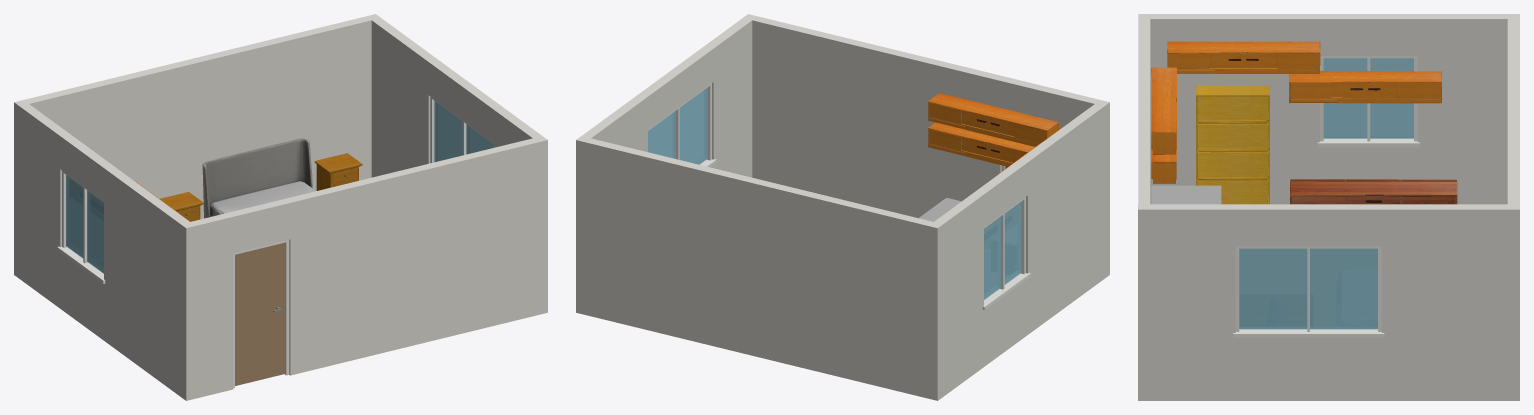
The model's file is holodeck.glb.
The picture shows the model from 3 angles, left to right: view 1: azimuth 30°, elevation 25°; view 2: azimuth 150°, elevation 25°; view 3: azimuth 270°, elevation 25°; orthographic projection. The views are drawn at different scales.
Parts seen in each view (by area): view 1: wall|scenesmith_022__R00|0, wall|scenesmith_022__R00|1, wall|scenesmith_022__R00|2, wall|scenesmith_022__R00|3, wall|scenesmith_022__R00|0 Door 0 | wood leaf, scenesmith_022__R00_0, wall|scenesmith_022__R00|2 Window 0 | glazing, scenesmith_022__R00_1, wall|scenesmith_022__R00|3 Window 0 | glazing, wall|scenesmith_022__R00|2 Window 0 | jamb, wall|scenesmith_022__R00|0 Door 0 | jamb, wall|scenesmith_022__R00|3 Window 0 | jamb; view 2: wall|scenesmith_022__R00|1, wall|scenesmith_022__R00|0, wall|scenesmith_022__R00|2, wall|scenesmith_022__R00|3, scenesmith_022__R00_10, wall|scenesmith_022__R00|3 Window 0 | glazing, wall|scenesmith_022__R00|2 Window 0 | glazing, wall|scenesmith_022__R00|2 Window 0 | jamb, wall|scenesmith_022__R00|3 Window 0 | jamb; view 3: wall|scenesmith_022__R00|3, wall|scenesmith_022__R00|2, scenesmith_022__R00_10, wall|scenesmith_022__R00|3 Window 0 | glazing, scenesmith_022__R00_5, wall|scenesmith_022__R00|0, wall|scenesmith_022__R00|1, wall|scenesmith_022__R00|2 Window 0 | glazing, scenesmith_022__R00_4, wall|scenesmith_022__R00|3 Window 0 | jamb, wall|scenesmith_022__R00|2 Window 0 | jamb, scenesmith_022__R00_6.
Part boxes in pixels (x1,y1,x2,y2): wall|scenesmith_022__R00|0: (180, 136, 547, 400); wall|scenesmith_022__R00|1: (14, 16, 371, 278); wall|scenesmith_022__R00|2: (19, 104, 189, 396); wall|scenesmith_022__R00|3: (366, 14, 547, 314); wall|scenesmith_022__R00|0 Door 0 | wood leaf: (235, 242, 285, 385); scenesmith_022__R00_0: (202, 138, 315, 218); wall|scenesmith_022__R00|2 Window 0 | glazing: (66, 175, 103, 273); scenesmith_022__R00_1: (160, 153, 362, 221); wall|scenesmith_022__R00|3 Window 0 | glazing: (434, 101, 494, 162); wall|scenesmith_022__R00|2 Window 0 | jamb: (57, 171, 105, 283); wall|scenesmith_022__R00|0 Door 0 | jamb: (233, 240, 289, 388); wall|scenesmith_022__R00|3 Window 0 | jamb: (430, 96, 494, 163); wall|scenesmith_022__R00|1: (576, 138, 943, 400); wall|scenesmith_022__R00|0: (743, 14, 1109, 278); wall|scenesmith_022__R00|2: (928, 104, 1104, 396); wall|scenesmith_022__R00|3: (576, 18, 752, 177); scenesmith_022__R00_10: (928, 93, 1066, 174); wall|scenesmith_022__R00|3 Window 0 | glazing: (648, 87, 707, 164); wall|scenesmith_022__R00|2 Window 0 | glazing: (984, 201, 1021, 299); wall|scenesmith_022__R00|2 Window 0 | jamb: (982, 197, 1030, 310); wall|scenesmith_022__R00|3 Window 0 | jamb: (648, 83, 716, 167); wall|scenesmith_022__R00|3: (1138, 204, 1519, 400); wall|scenesmith_022__R00|2: (1150, 14, 1517, 204); scenesmith_022__R00_10: (1151, 41, 1441, 183); wall|scenesmith_022__R00|3 Window 0 | glazing: (1239, 248, 1377, 329); scenesmith_022__R00_5: (1196, 85, 1269, 204); wall|scenesmith_022__R00|0: (1138, 14, 1150, 400); wall|scenesmith_022__R00|1: (1507, 14, 1519, 400); wall|scenesmith_022__R00|2 Window 0 | glazing: (1323, 58, 1413, 138); scenesmith_022__R00_4: (1290, 179, 1457, 204); wall|scenesmith_022__R00|3 Window 0 | jamb: (1233, 246, 1384, 337); wall|scenesmith_022__R00|2 Window 0 | jamb: (1317, 56, 1419, 147); scenesmith_022__R00_6: (1151, 185, 1221, 204).
Size of the model in its own units: 5.76 by 2.61 by 4.7.
Materials: 14 (8 with a texture image).
